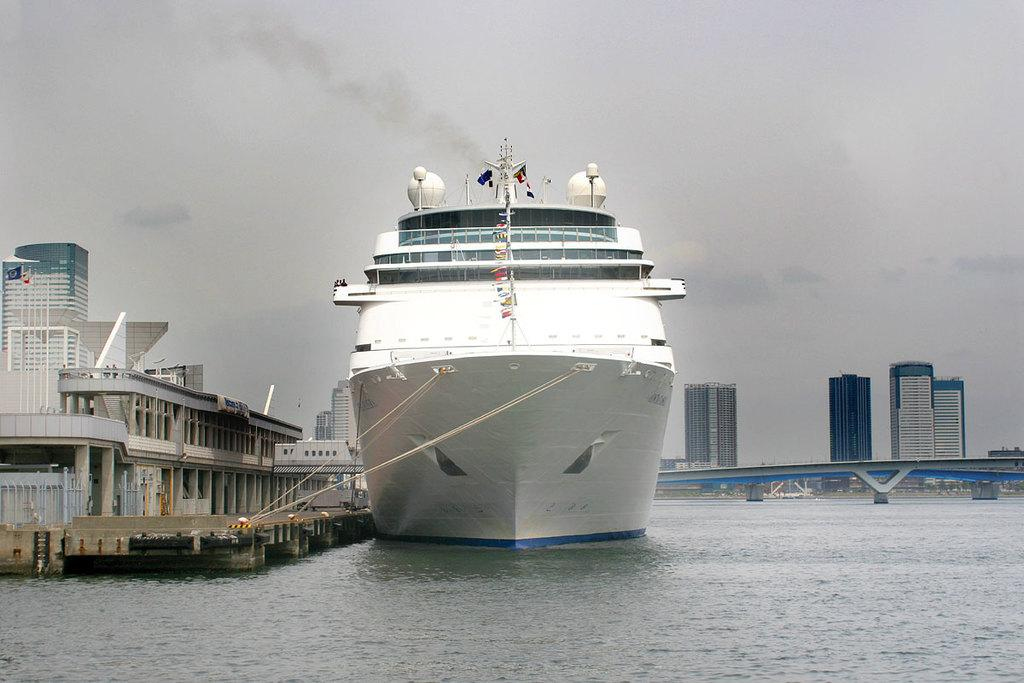PassengerShip: (316, 132, 688, 562)
